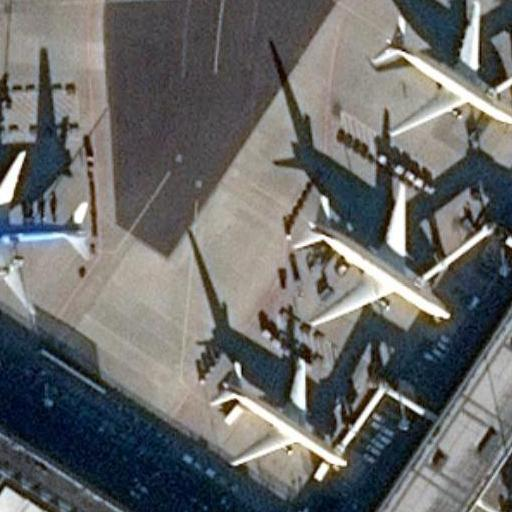Aircraft: (286, 178, 454, 329), (366, 0, 512, 139), (206, 353, 349, 473), (0, 147, 95, 312)
